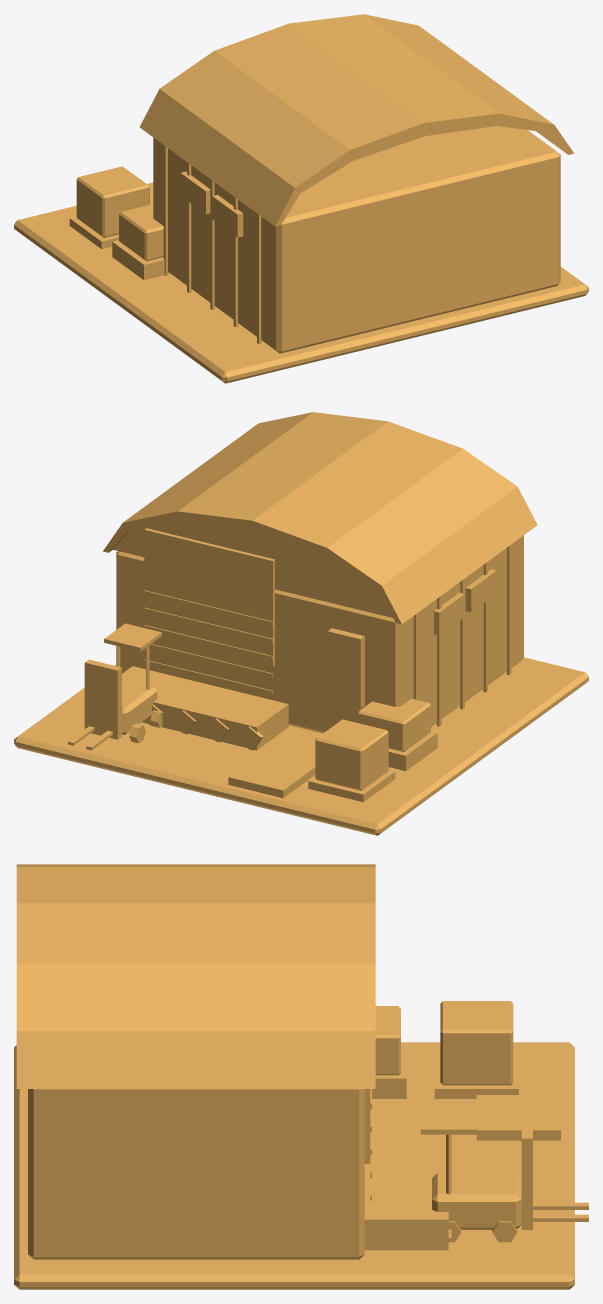
3 renders of one model, top to bottom at view 1: azimuth 30°, elevation 25°; view 2: azimuth 150°, elevation 25°; view 3: azimuth 270°, elevation 25°, orthographic. The views are drawn at different scales.
Parts seen in each view (by area): view 1: corpo; view 2: corpo; view 3: corpo.
Boxes of the visible parts, <box> form: corpo: <box>14,14,588,383</box>; corpo: <box>14,412,588,835</box>; corpo: <box>14,864,588,1289</box>.
Size of the model in its own units: 2 by 1.11 by 2.05.
